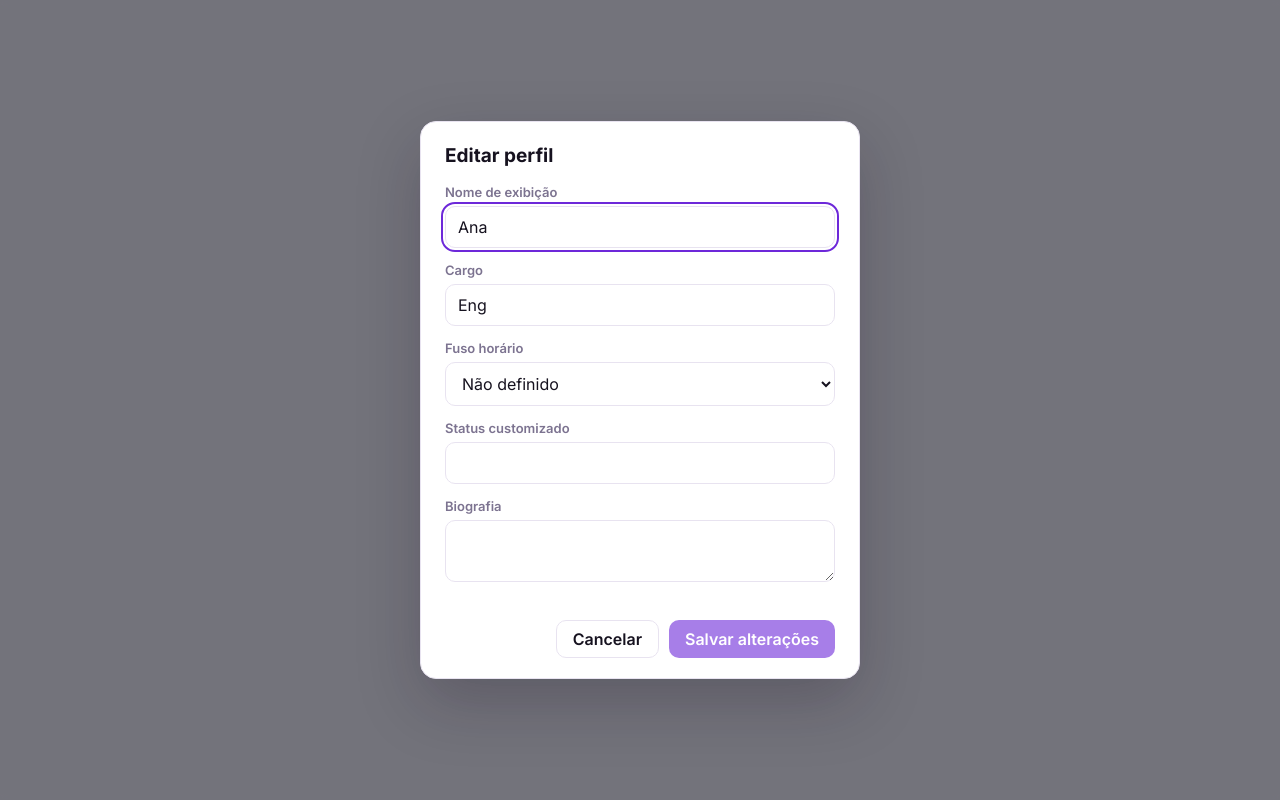
Test: ProfileEditDialog › falls back to a generic error message when the rejection is not an UpdateProfileError
The image size is (1280, 800).
Type " Costa" into the field labelled "Nome de exibição" at (640, 227), box [445, 206, 835, 248]
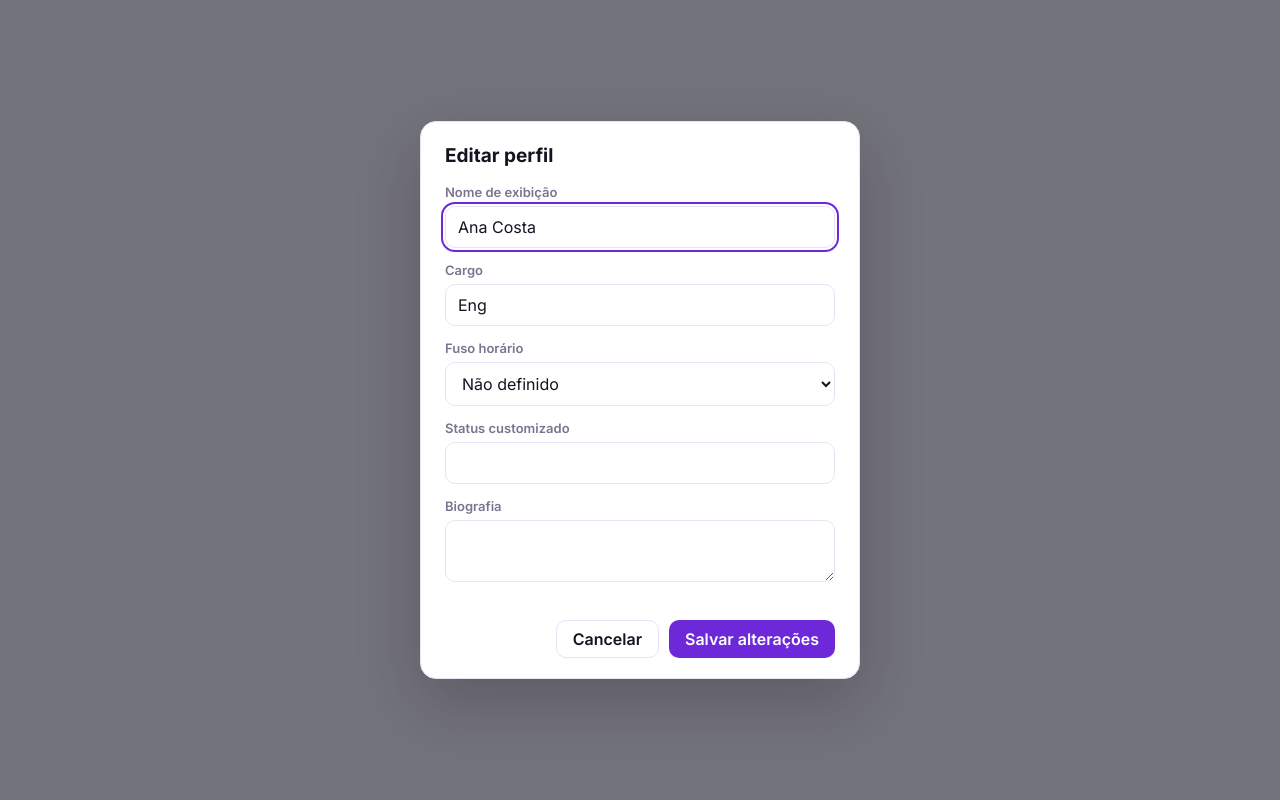
Click the button "Salvar alterações" at (752, 639), box [669, 620, 835, 658]
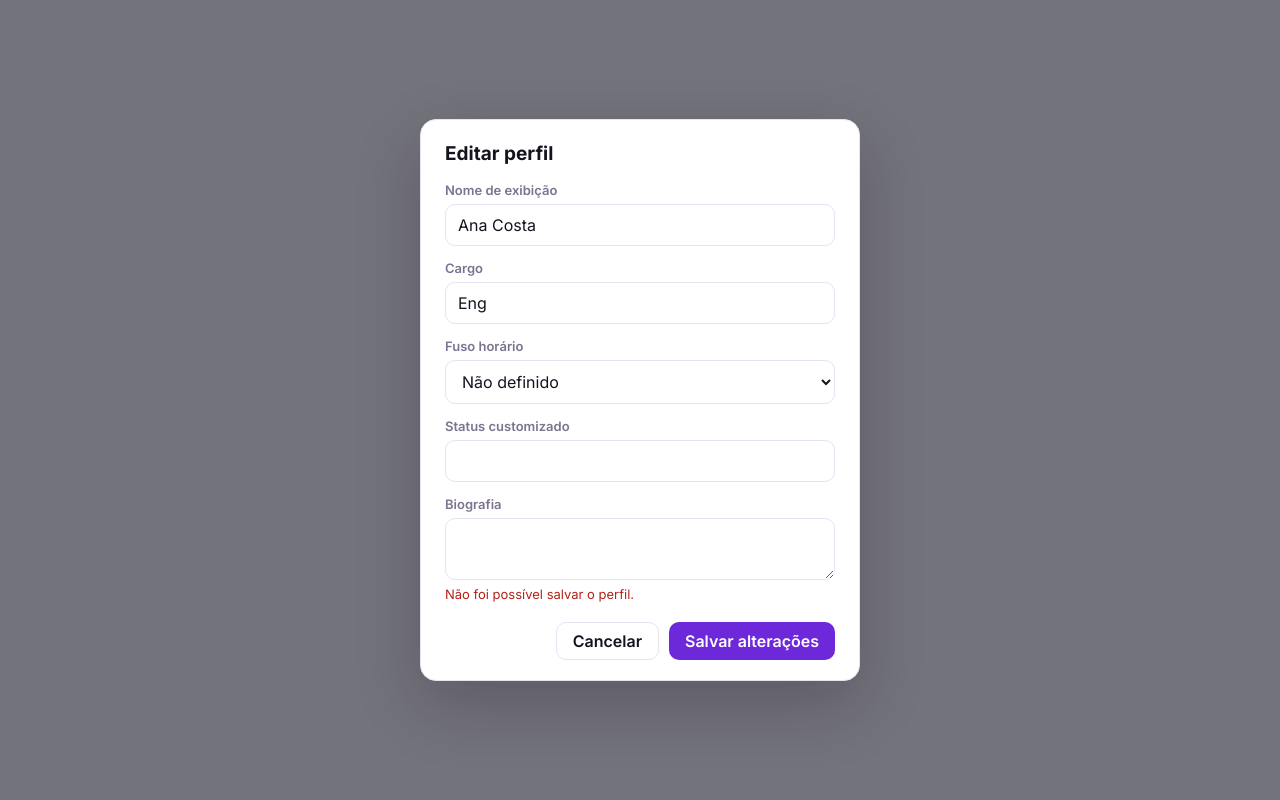
Result: the message shows "Não foi possível salvar o perfil" at [445, 586, 634, 602]
